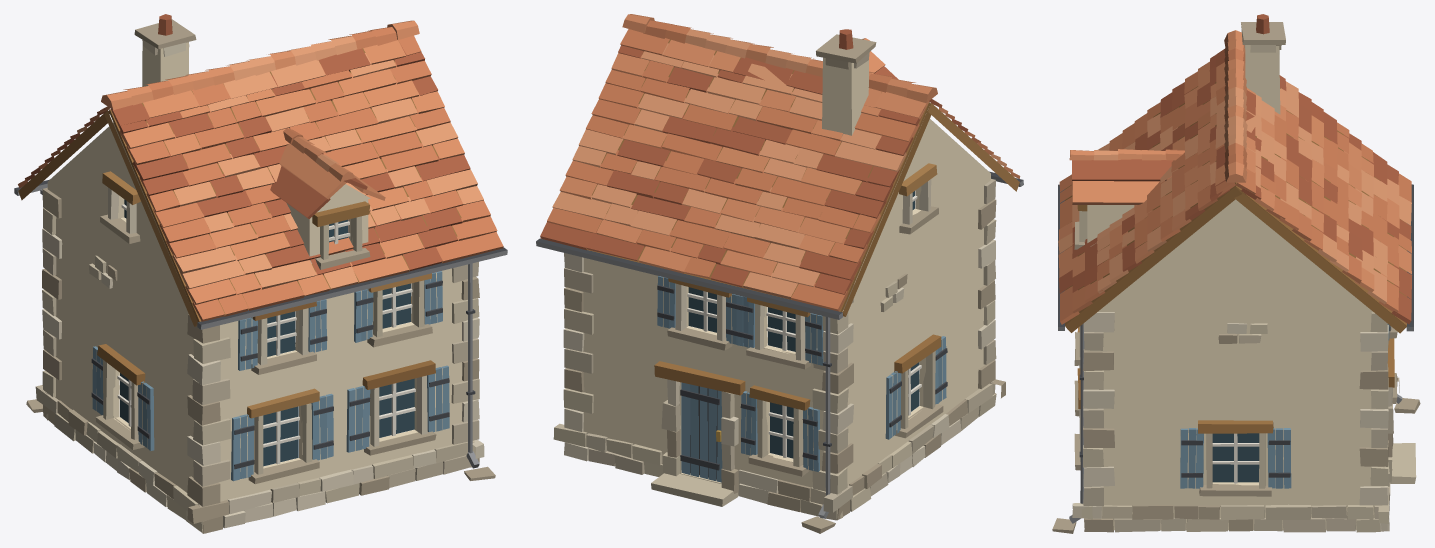
The model's file is lucie.glb.
The picture shows the model from 3 angles, left to right: view 1: azimuth 30°, elevation 25°; view 2: azimuth 150°, elevation 25°; view 3: azimuth 270°, elevation 25°; orthographic projection. The views are drawn at different scales.
Visible parts, largest first — view 1: lucie; view 2: lucie; view 3: lucie.
Boxes of the visible parts, x1,y1,x2,y2 form: lucie: (14, 14, 507, 533); lucie: (536, 14, 1023, 533); lucie: (1052, 14, 1420, 533).
Size of the model in its own units: 6.84 by 9.21 by 7.43.
